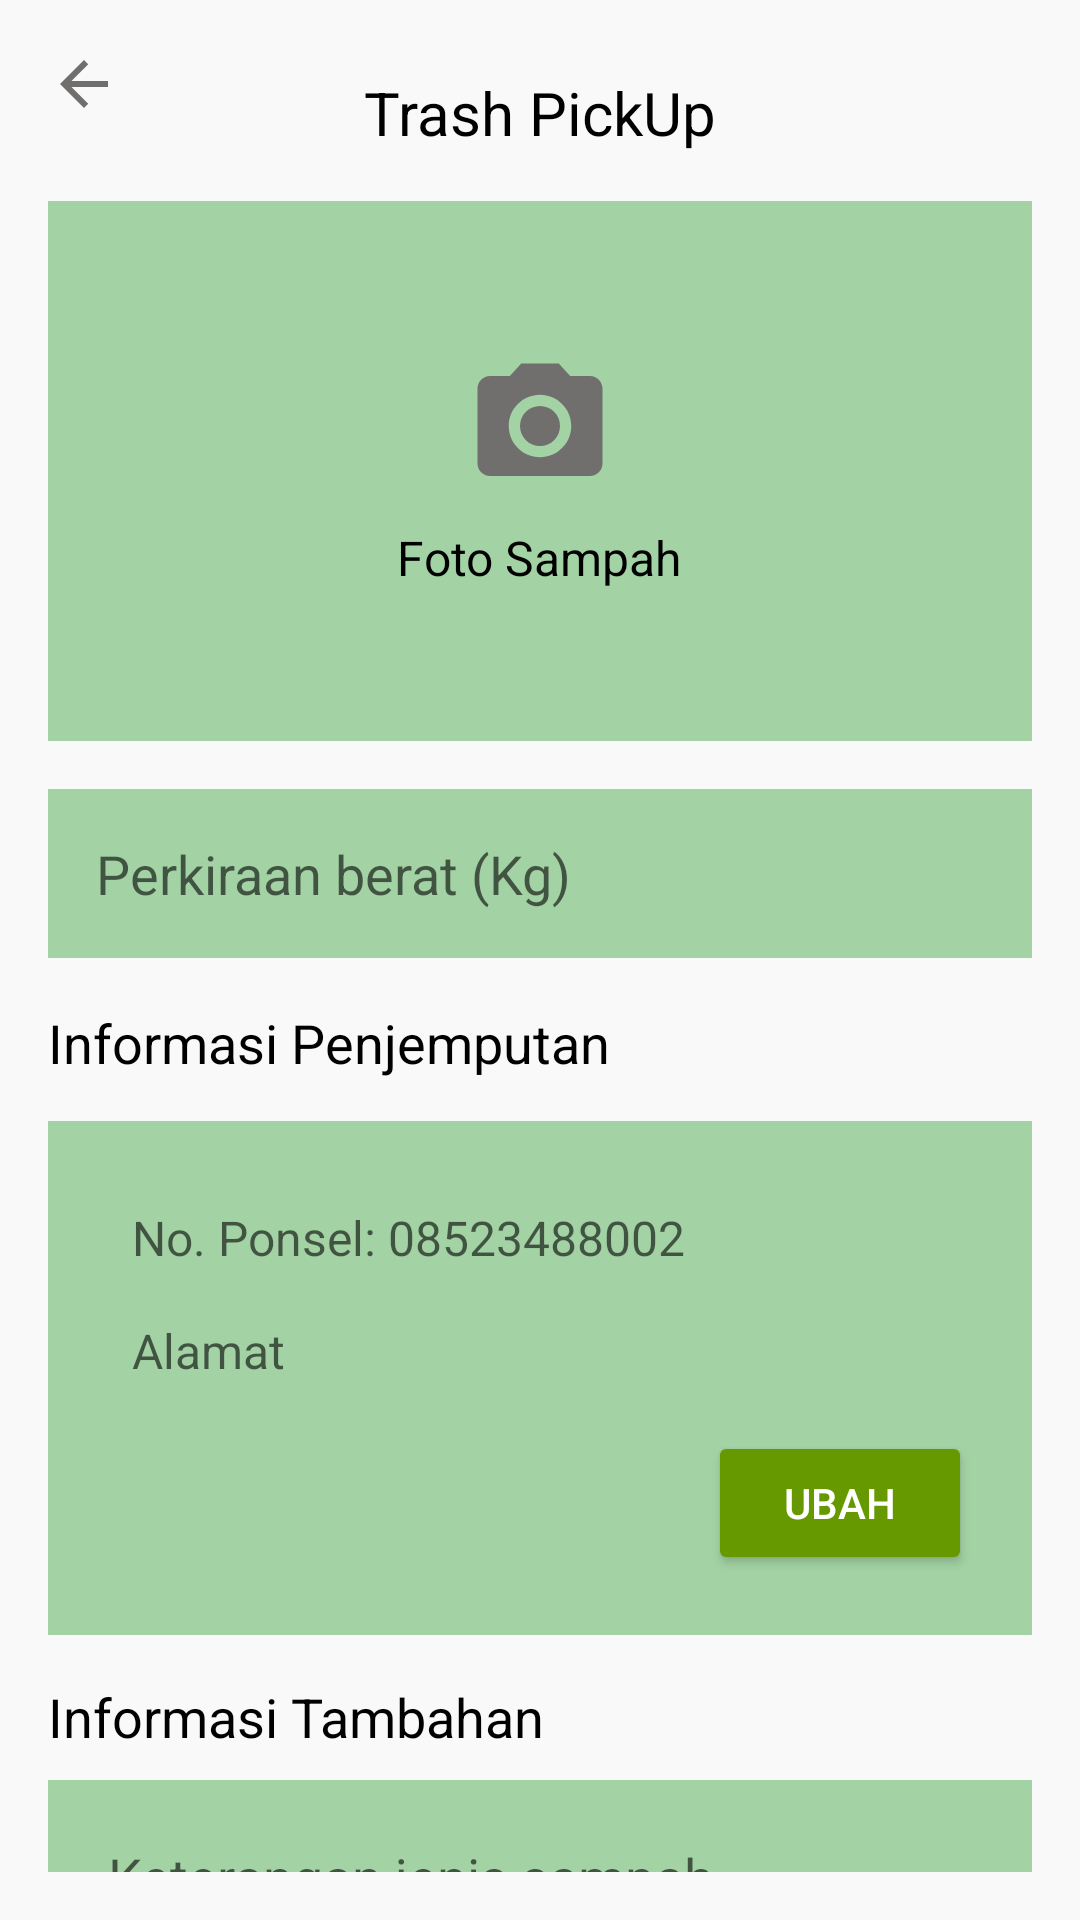

Locate icon controls on the screen. Image size 1080*1920, boxes as (x1, y1, x2, y2).
arrow back: (60, 60, 108, 108)
photo camera: (477, 363, 603, 476)
